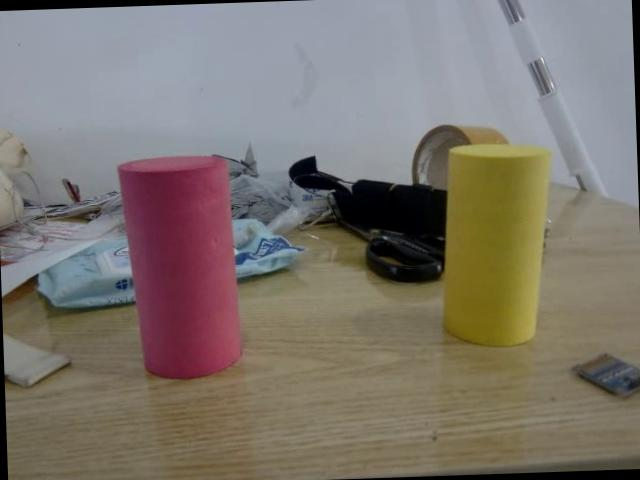red_cylinder: (118, 154, 242, 380)
yellow_cylinder: (437, 142, 558, 348)
